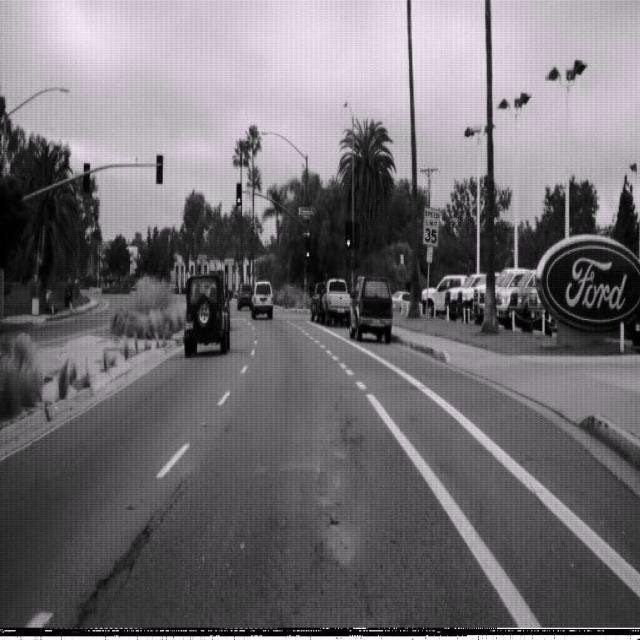speedLimit35: (422, 205, 440, 248)
